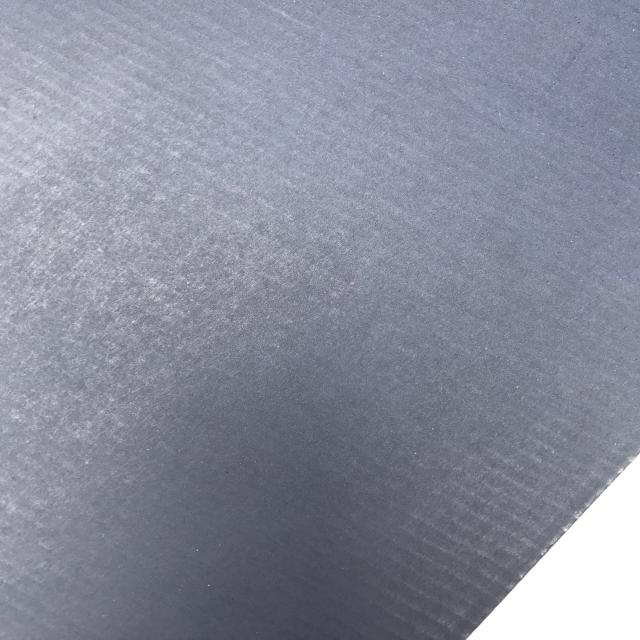cardboard: (1, 1, 638, 639)
